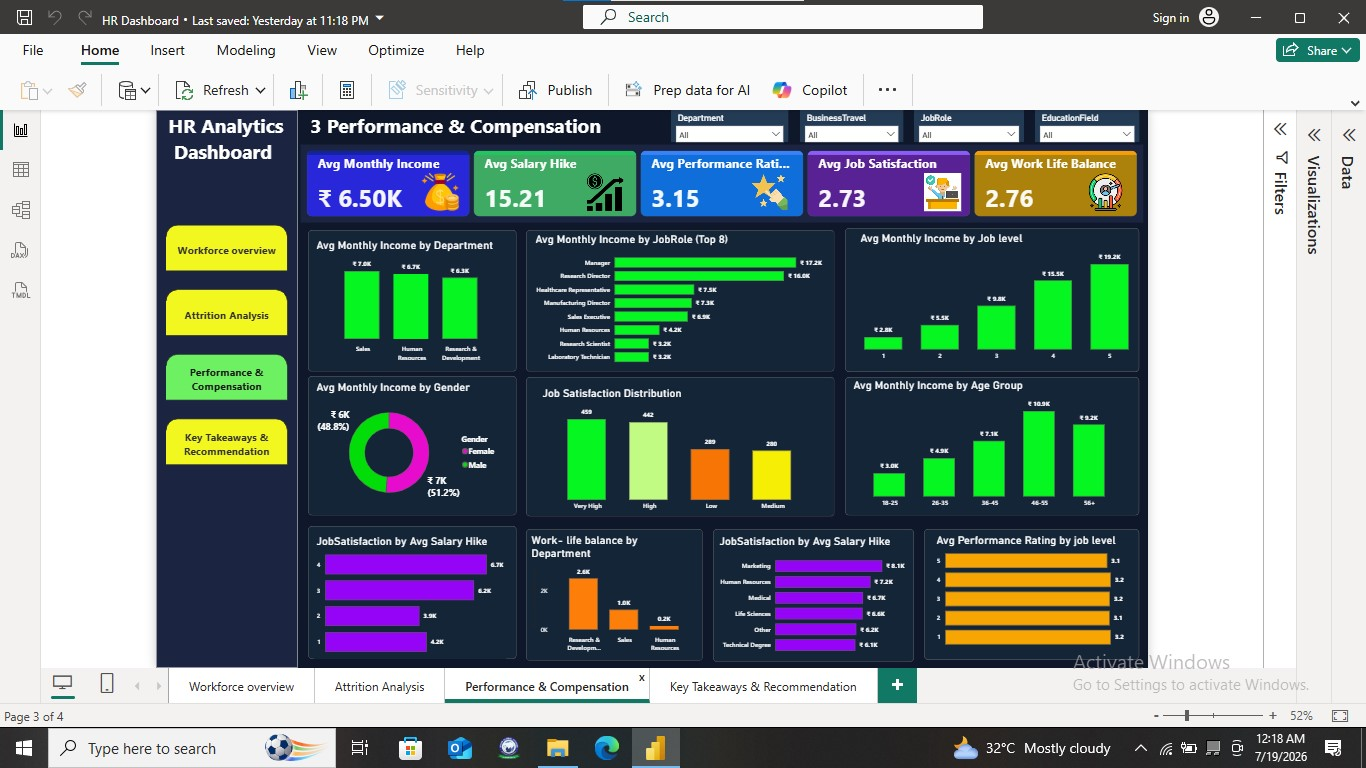

The page's visual inventory and layout, read from the dashboard file:
{"tool":"powerbi","page":{"name":"Performance & Compensation","canvas":[1920,1080],"ordinal":2},"visuals":[{"type":"shape","box":[293.4,805.7,403.9,257.2],"z":0},{"type":"shape","box":[716.5,810,342.3,255.1],"z":1000},{"type":"shape","box":[293.4,231.7,403.9,274.3],"z":2000},{"type":"shape","box":[0,0,274.3,1080],"z":3000},{"type":"textbox","box":[19.1,0,255.1,121.2],"z":4000},{"type":"cardVisual","fields":{"Data":["HR-Employee-Attrition.Avg Monthly Income","HR-Employee-Attrition.Avg Salary Hike","HR-Employee-Attrition.Avg Performance Rating","HR-Employee-Attrition.Avg Job Satisfaction","HR-Employee-Attrition.Avg Work Life Balance"]},"box":[274.3,61.7,1645.5,161.6],"z":5000},{"type":"columnChart","title":"Avg Monthly Income by Department","fields":{"Category":["HR-Employee-Attrition.Department"],"Y":["HR-Employee-Attrition.Avg Monthly Income"]},"box":[306.1,248.7,363.5,244.5],"z":6000},{"type":"shape","box":[716.5,231.7,597.4,274.3],"z":7000},{"type":"shape","box":[293.4,514.5,403.9,270],"z":8000},{"type":"shape","box":[1333,227.5,569.8,278.5],"z":9000},{"type":"clusteredColumnChart","title":"Avg Monthly Income by Job level","fields":{"Y":["HR-Employee-Attrition.Avg Monthly Income"],"Category":["HR-Employee-Attrition.JobLevel"]},"box":[1358.5,236,535.7,257.2],"z":10000},{"type":"image","box":[1486.1,121.2,72.3,74.4],"z":11000},{"type":"image","box":[512.4,121.2,74.4,74.4],"z":12000},{"type":"image","box":[833.4,121.2,70.2,74.4],"z":13000},{"type":"image","box":[1152.3,121.2,72.3,74.4],"z":14000},{"type":"image","box":[1802.8,121.2,72.3,74.4],"z":15000},{"type":"textbox","box":[293.4,0,639.9,61.7],"z":16000},{"type":"slicer","fields":{"Values":["HR-Employee-Attrition.Department"]},"box":[997.1,0,227.5,61.7],"z":17000},{"type":"slicer","fields":{"Values":["HR-Employee-Attrition.BusinessTravel"]},"box":[1245.8,0,199.8,61.7],"z":18000},{"type":"slicer","fields":{"Values":["HR-Employee-Attrition.JobRole"]},"box":[1466.9,0,212.6,61.7],"z":19000},{"type":"slicer","fields":{"Values":["HR-Employee-Attrition.EducationField"]},"box":[1700.8,0,202,61.7],"z":20000},{"type":"shape","box":[716.5,516.6,597.4,270],"z":21000},{"type":"shape","box":[1333,516.6,569.8,267.9],"z":22000},{"type":"clusteredColumnChart","title":" Job Satisfaction Distribution","fields":{"Y":["HR-Employee-Attrition.Total Employee"],"Category":["HR-Employee-Attrition.Jobs Satisfaction Level"]},"box":[744.1,535.7,544.3,248.7],"z":23000},{"type":"donutChart","title":"Avg Monthly Income by Gender","fields":{"Y":["HR-Employee-Attrition.Avg Monthly Income"],"Category":["HR-Employee-Attrition.Gender"]},"box":[306.1,525.1,363.5,253],"z":24000},{"type":"clusteredColumnChart","title":"Avg Monthly Income by Age Group","fields":{"Y":["HR-Employee-Attrition.Avg Monthly Income"],"Category":["HR-Employee-Attrition.Age Group"]},"box":[1345.7,520.9,537.9,257.2],"z":25000},{"type":"shape","box":[1486.1,810,416.7,253],"z":26000},{"type":"barChart","title":"Avg Monthly Income by JobRole (Top 8)","fields":{"Category":["HR-Employee-Attrition.JobRole"],"Y":["HR-Employee-Attrition.Avg Monthly Income"]},"box":[729.2,238.1,571.9,265.7],"z":27000},{"type":"clusteredBarChart","title":"JobSatisfaction by Avg Salary Hike","fields":{"Category":["HR-Employee-Attrition.JobSatisfaction"],"Y":["Sum(HR-Employee-Attrition.PercentSalaryHike)"]},"box":[306.1,822.8,372,240.2],"z":28000},{"type":"clusteredBarChart","title":"Avg Performance Rating by job level","fields":{"Category":["HR-Employee-Attrition.JobLevel"],"Y":["HR-Employee-Attrition.Avg Performance Rating"]},"box":[1505.2,820.6,380.6,227.5],"z":29000},{"type":"columnChart","title":"Work- life balance by Department","fields":{"Category":["HR-Employee-Attrition.Department"],"Y":["Sum(HR-Employee-Attrition.WorkLifeBalance)"]},"box":[722.8,820.6,329.5,236],"z":30000},{"type":"shape","box":[1077.9,810,389.1,257.2],"z":31000},{"type":"clusteredBarChart","title":"JobSatisfaction by Avg Salary Hike","fields":{"Y":["HR-Employee-Attrition.Avg Monthly Income"],"Category":["HR-Employee-Attrition.EducationField"]},"box":[1086.4,822.8,372,242.4],"z":32000},{"type":"pageNavigator","box":[19.1,223.2,236,467.7],"z":33000}]}

Visuals, with their boxes on the page's 1920x1080 design canvas (x1, y1, x2, y2). These are canvas units, not pixel positions in the 1366x768 screenshot, which may show the page scaled, cropped or inside an application window:
shape: (293,806,697,1063)
shape: (716,810,1059,1065)
shape: (293,232,697,506)
shape: (0,0,274,1080)
textbox: (19,0,274,121)
cardVisual - HR-Employee-Attrition.Avg Monthly Income x HR-Employee-Attrition.Avg Salary Hike: (274,62,1920,223)
"Avg Monthly Income by Department" columnChart: (306,249,670,493)
shape: (716,232,1314,506)
shape: (293,514,697,784)
shape: (1333,228,1903,506)
"Avg Monthly Income by Job level" clusteredColumnChart: (1358,236,1894,493)
image: (1486,121,1558,196)
image: (512,121,587,196)
image: (833,121,904,196)
image: (1152,121,1225,196)
image: (1803,121,1875,196)
textbox: (293,0,933,62)
slicer - HR-Employee-Attrition.Department: (997,0,1225,62)
slicer - HR-Employee-Attrition.BusinessTravel: (1246,0,1446,62)
slicer - HR-Employee-Attrition.JobRole: (1467,0,1680,62)
slicer - HR-Employee-Attrition.EducationField: (1701,0,1903,62)
shape: (716,517,1314,787)
shape: (1333,517,1903,784)
" Job Satisfaction Distribution" clusteredColumnChart: (744,536,1288,784)
"Avg Monthly Income by Gender" donutChart: (306,525,670,778)
"Avg Monthly Income by Age Group" clusteredColumnChart: (1346,521,1884,778)
shape: (1486,810,1903,1063)
"Avg Monthly Income by JobRole (Top 8)" barChart: (729,238,1301,504)
"JobSatisfaction by Avg Salary Hike" clusteredBarChart: (306,823,678,1063)
"Avg Performance Rating by job level" clusteredBarChart: (1505,821,1886,1048)
"Work- life balance by Department" columnChart: (723,821,1052,1057)
shape: (1078,810,1467,1067)
"JobSatisfaction by Avg Salary Hike" clusteredBarChart: (1086,823,1458,1065)
pageNavigator: (19,223,255,691)
